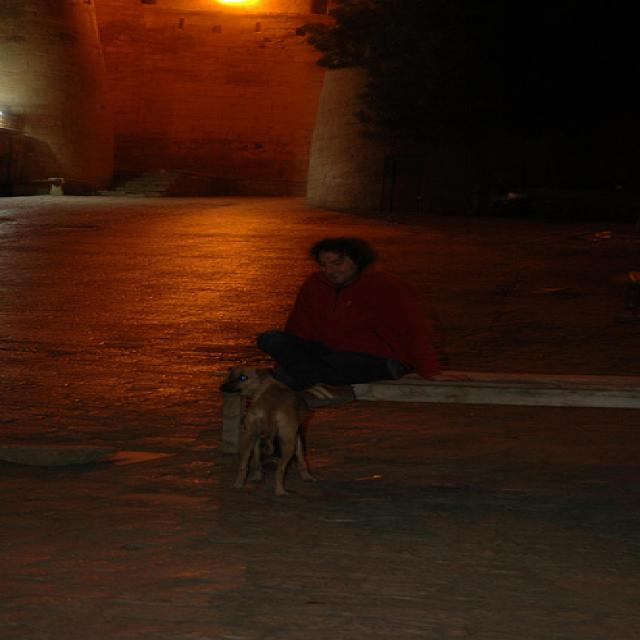dog: (149, 339, 401, 521)
